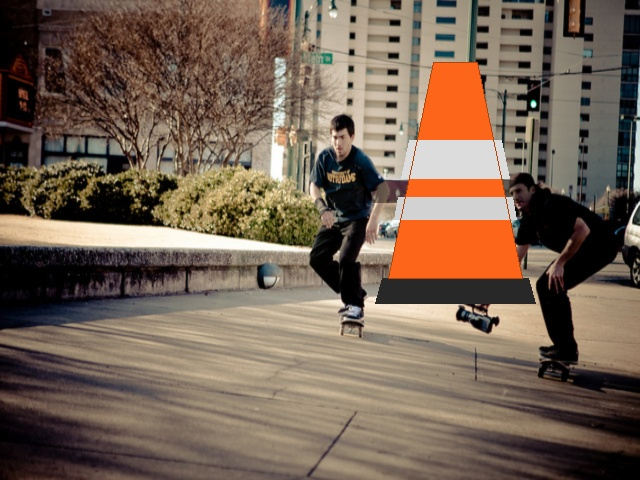traffic-cone: (375, 62, 535, 303)
